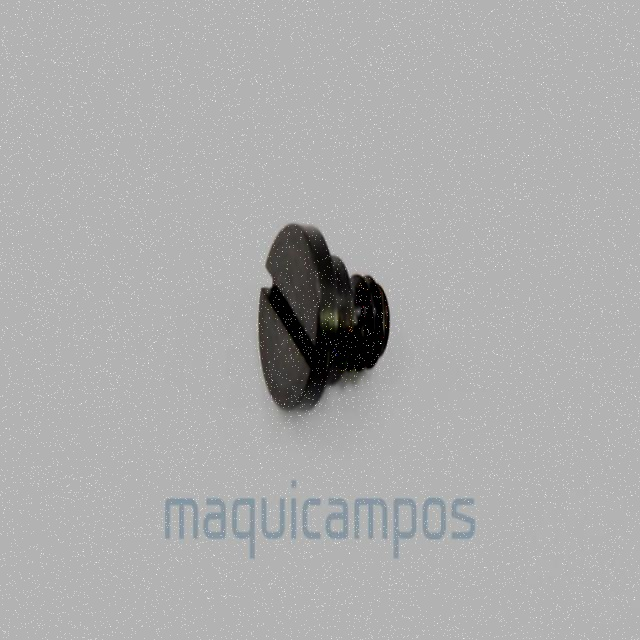duz: (257, 219, 339, 417)
